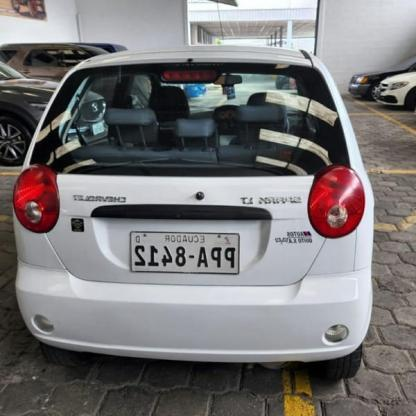Placa: (129, 228, 238, 272)
